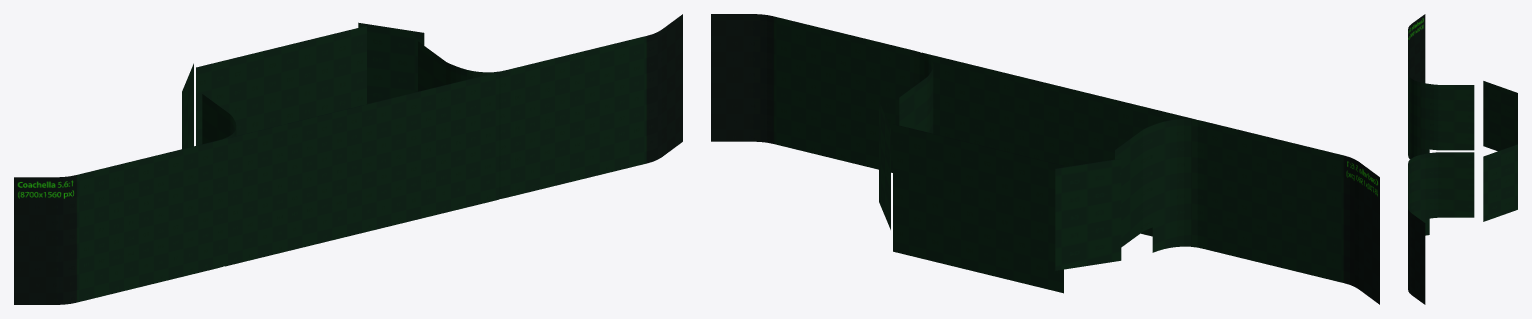
File: ANYMA_Coachella_StageDec_v009_Option1_Projection_Garagefix.glb
3 renders of one model, left to right at view 1: azimuth 30°, elevation 25°; view 2: azimuth 150°, elevation 25°; view 3: azimuth 270°, elevation 25°, orthographic. The views are drawn at different scales.
Parts seen in each view (by area): view 1: LED_FRONT_IRL.004, LED_SR_WING_IRL.006, LED_SL_WING_IRL.009, LED_US_WALL_IRL.004, LED_SL_GARAGE_IRL.009, LED_SR_GARAGE_IRL.006; view 2: LED_SR_WING_IRL.006, LED_SL_WING_IRL.009, LED_US_WALL_IRL.004, LED_FRONT_IRL.004, LED_SR_GARAGE_IRL.006, LED_SL_GARAGE_IRL.009; view 3: LED_SL_WING_IRL.009, LED_SR_WING_IRL.006, LED_SL_GARAGE_IRL.009, LED_SR_GARAGE_IRL.006.
Part boxes in pixels (x1,y1,x2,y2): LED_FRONT_IRL.004: (224,72,498,266); LED_SR_WING_IRL.006: (14,94,236,304); LED_SL_WING_IRL.009: (418,14,682,199); LED_US_WALL_IRL.004: (196,26,366,145); LED_SL_GARAGE_IRL.009: (358,22,424,103); LED_SR_GARAGE_IRL.006: (182,63,193,148); LED_SR_WING_IRL.006: (1115,119,1379,304); LED_SL_WING_IRL.009: (711,14,933,172); LED_US_WALL_IRL.004: (893,124,1063,293); LED_FRONT_IRL.004: (922,52,1195,236); LED_SR_GARAGE_IRL.006: (1055,158,1121,270); LED_SL_GARAGE_IRL.009: (879,100,890,229); LED_SL_WING_IRL.009: (1408,152,1474,304); LED_SR_WING_IRL.006: (1408,14,1474,159); LED_SL_GARAGE_IRL.009: (1483,144,1517,221); LED_SR_GARAGE_IRL.006: (1483,81,1517,151).
Size of the model in its own units: 65.79 by 12.01 by 14.6.
Materials: 1 (1 with a texture image).
